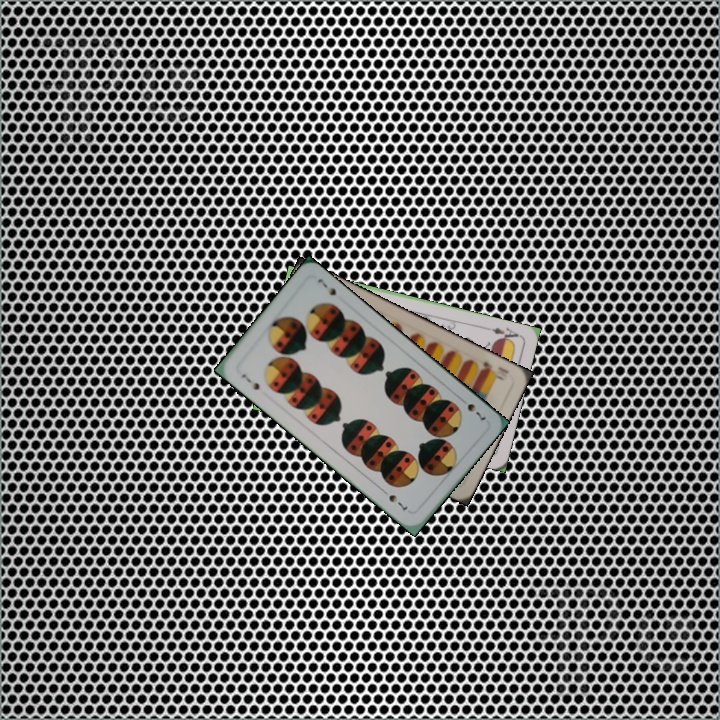E10: (477, 357, 511, 384)
EA: (482, 323, 523, 345)
S7: (455, 393, 488, 423), (237, 370, 263, 394)
